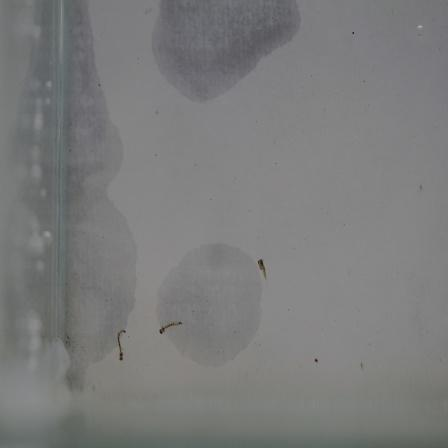Jentik-Nyamuk: (114, 326, 133, 365), (155, 317, 187, 337), (257, 250, 272, 285)
